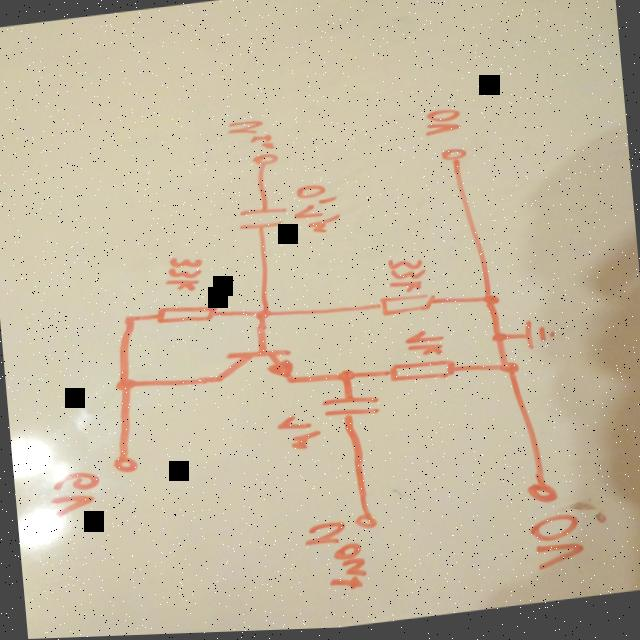capacitor: (314, 388, 384, 433), (232, 199, 287, 242)
ground: (514, 318, 560, 359)
junction: (110, 371, 138, 400), (246, 304, 276, 327), (492, 359, 522, 382), (330, 366, 358, 388), (478, 290, 503, 313), (114, 312, 140, 331), (486, 330, 506, 350)
resistor: (377, 357, 463, 395), (148, 297, 224, 335), (370, 289, 440, 323)
terminal: (519, 479, 561, 513), (102, 450, 142, 483), (348, 509, 380, 537), (245, 151, 282, 175), (434, 147, 469, 171)
text: (298, 518, 370, 601), (522, 511, 592, 578), (285, 182, 342, 241), (44, 467, 102, 520), (270, 409, 322, 460), (222, 115, 276, 157), (380, 254, 428, 299), (158, 253, 205, 298), (398, 325, 449, 365), (418, 107, 462, 144)
transistor: (203, 336, 302, 401)
